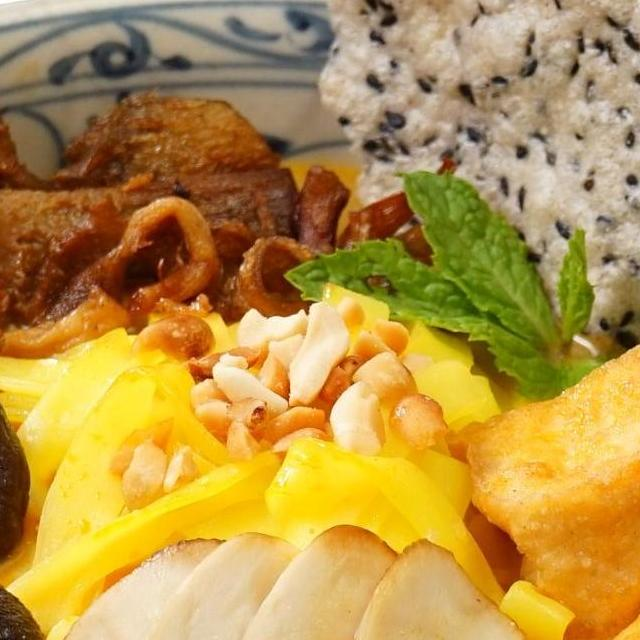banh da: (306, 0, 640, 403)
dau hu: (449, 336, 640, 640)
mi: (0, 269, 513, 640)
